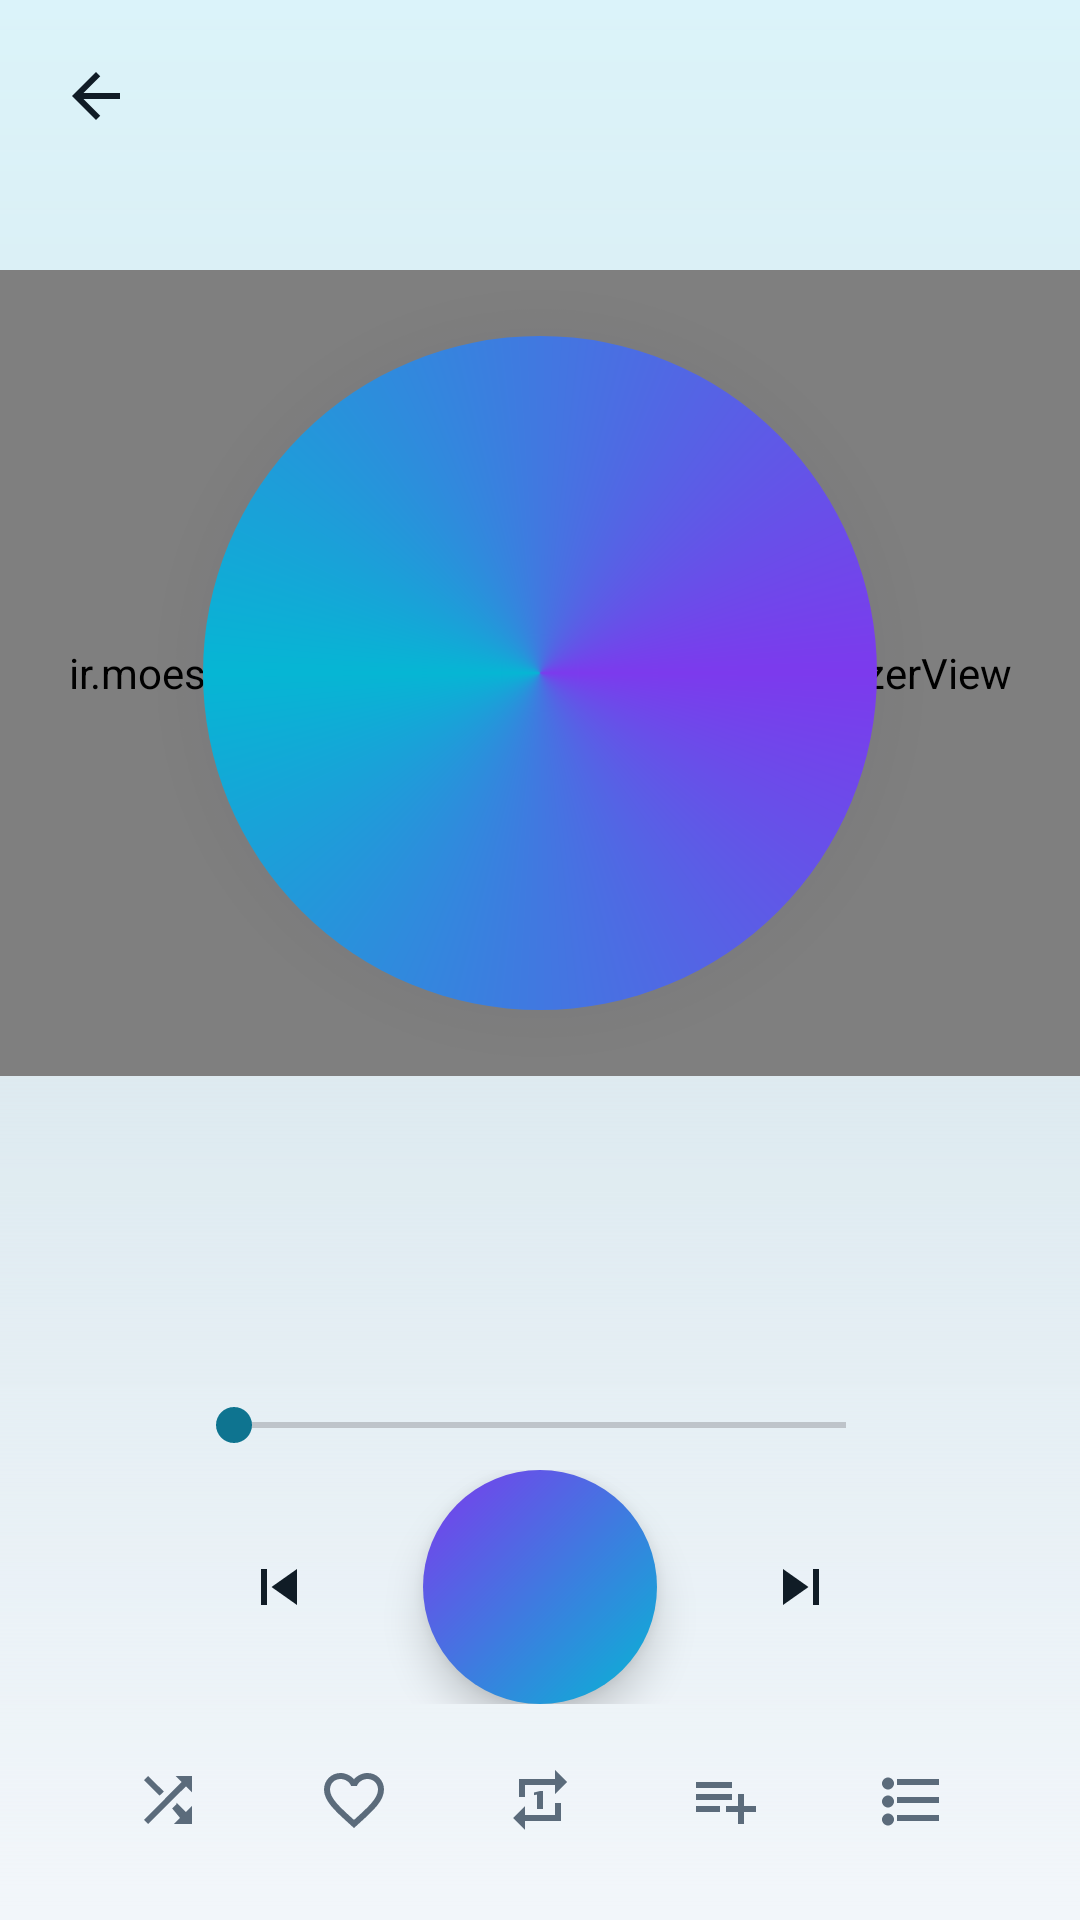

Screen size 1080px×1920px. Icon name, then its center in pixels as (x,y):
back: (96,96)
heart: (354,1800)
next: (801,1587)
playlist add: (726,1803)
prev: (279,1587)
تکرار: (540,1800)
شافل: (168,1800)
صف پخش: (910,1801)
